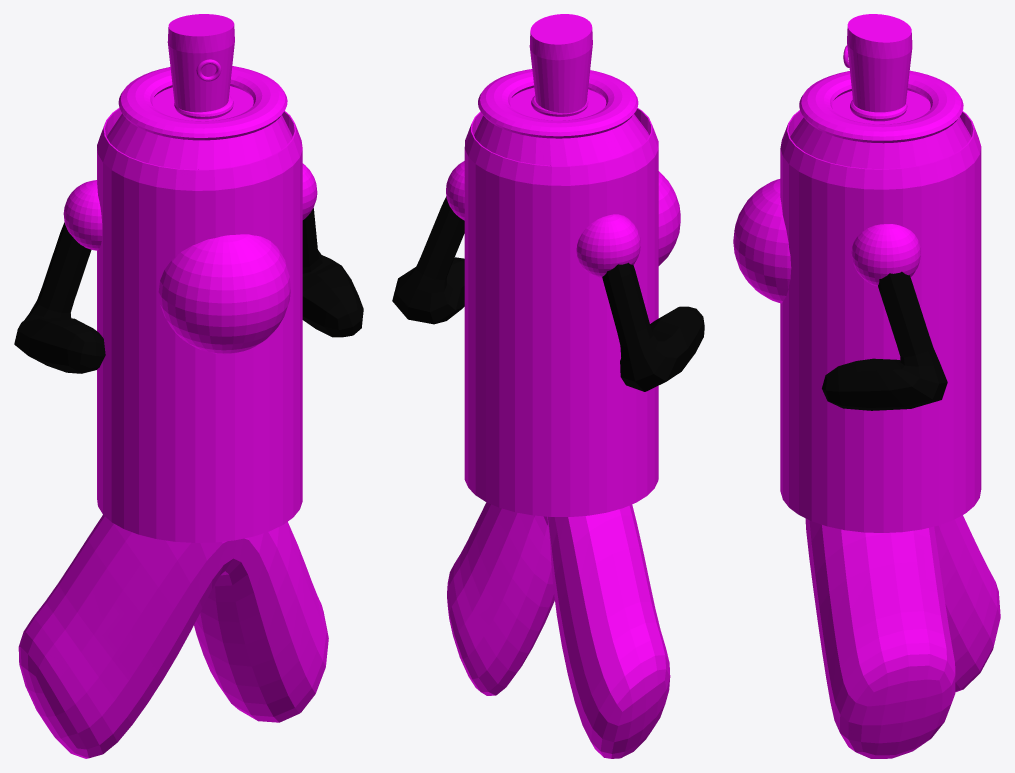
Rendered from Monster Samir.gltf.
The picture shows the model from 3 angles, left to right: view 1: azimuth 30°, elevation 25°; view 2: azimuth 150°, elevation 25°; view 3: azimuth 270°, elevation 25°; orthographic projection. The views are drawn at different scales.
Parts seen in each view (by area): view 1: Monster Samir; view 2: Monster Samir; view 3: Monster Samir.
Part boxes in pixels (box(x1,y1,x2,y2)): Monster Samir: box(14, 14, 363, 758); Monster Samir: box(392, 14, 704, 758); Monster Samir: box(733, 14, 1000, 758).
Bounding box in the file's own units: 3.85 × 8.66 × 2.95.
3 materials, 3 textured.
